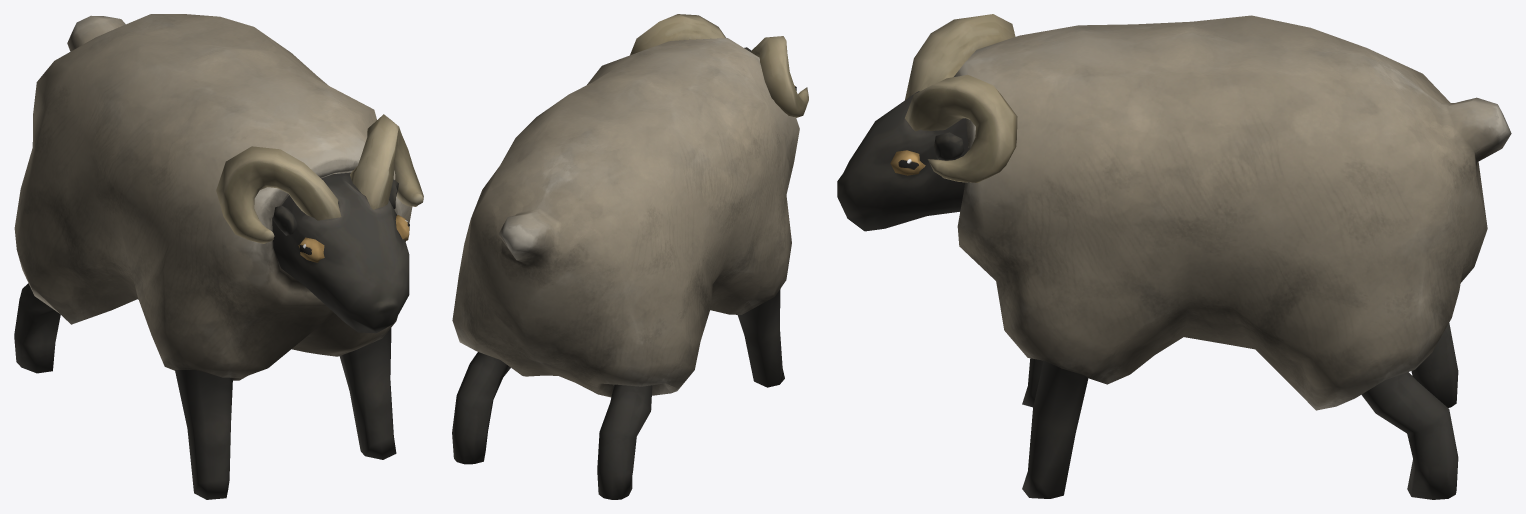
The model's file is Aries_std_WhiteRam.fbx.
3 renders of one model, left to right at view 1: azimuth 30°, elevation 25°; view 2: azimuth 150°, elevation 25°; view 3: azimuth 270°, elevation 25°, orthographic. The views are drawn at different scales.
Parts seen in each view (by area): view 1: Ram_05, PM3D_Cylinder3D1, PM3D_Sphere3D1_1, PM3D_Sphere3D1; view 2: Ram_05, PM3D_Cylinder3D1; view 3: Ram_05, PM3D_Cylinder3D1.
Part boxes in pixels (x1=…): Ram_05: x1=14, y1=14, x2=412, y2=499; PM3D_Cylinder3D1: x1=216, y1=114, x2=423, y2=243; PM3D_Sphere3D1_1: x1=298, y1=215, x2=409, y2=262; PM3D_Sphere3D1: x1=273, y1=179, x2=398, y2=235; Ram_05: x1=452, y1=38, x2=799, y2=499; PM3D_Cylinder3D1: x1=630, y1=14, x2=808, y2=117; Ram_05: x1=837, y1=15, x2=1511, y2=499; PM3D_Cylinder3D1: x1=905, y1=14, x2=1017, y2=182.
Size of the model in its own units: 16.31 by 22.23 by 32.88.
